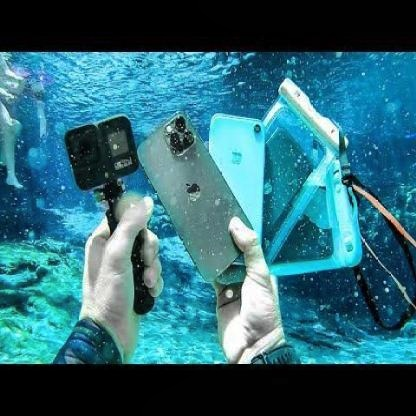cellphone: (135, 109, 254, 283), (202, 112, 266, 290)
electronics: (65, 117, 142, 188)
